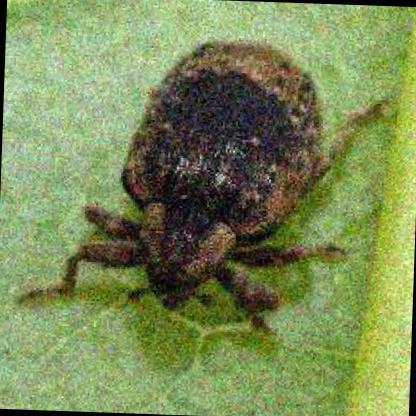ash weevil: (23, 33, 336, 316)
